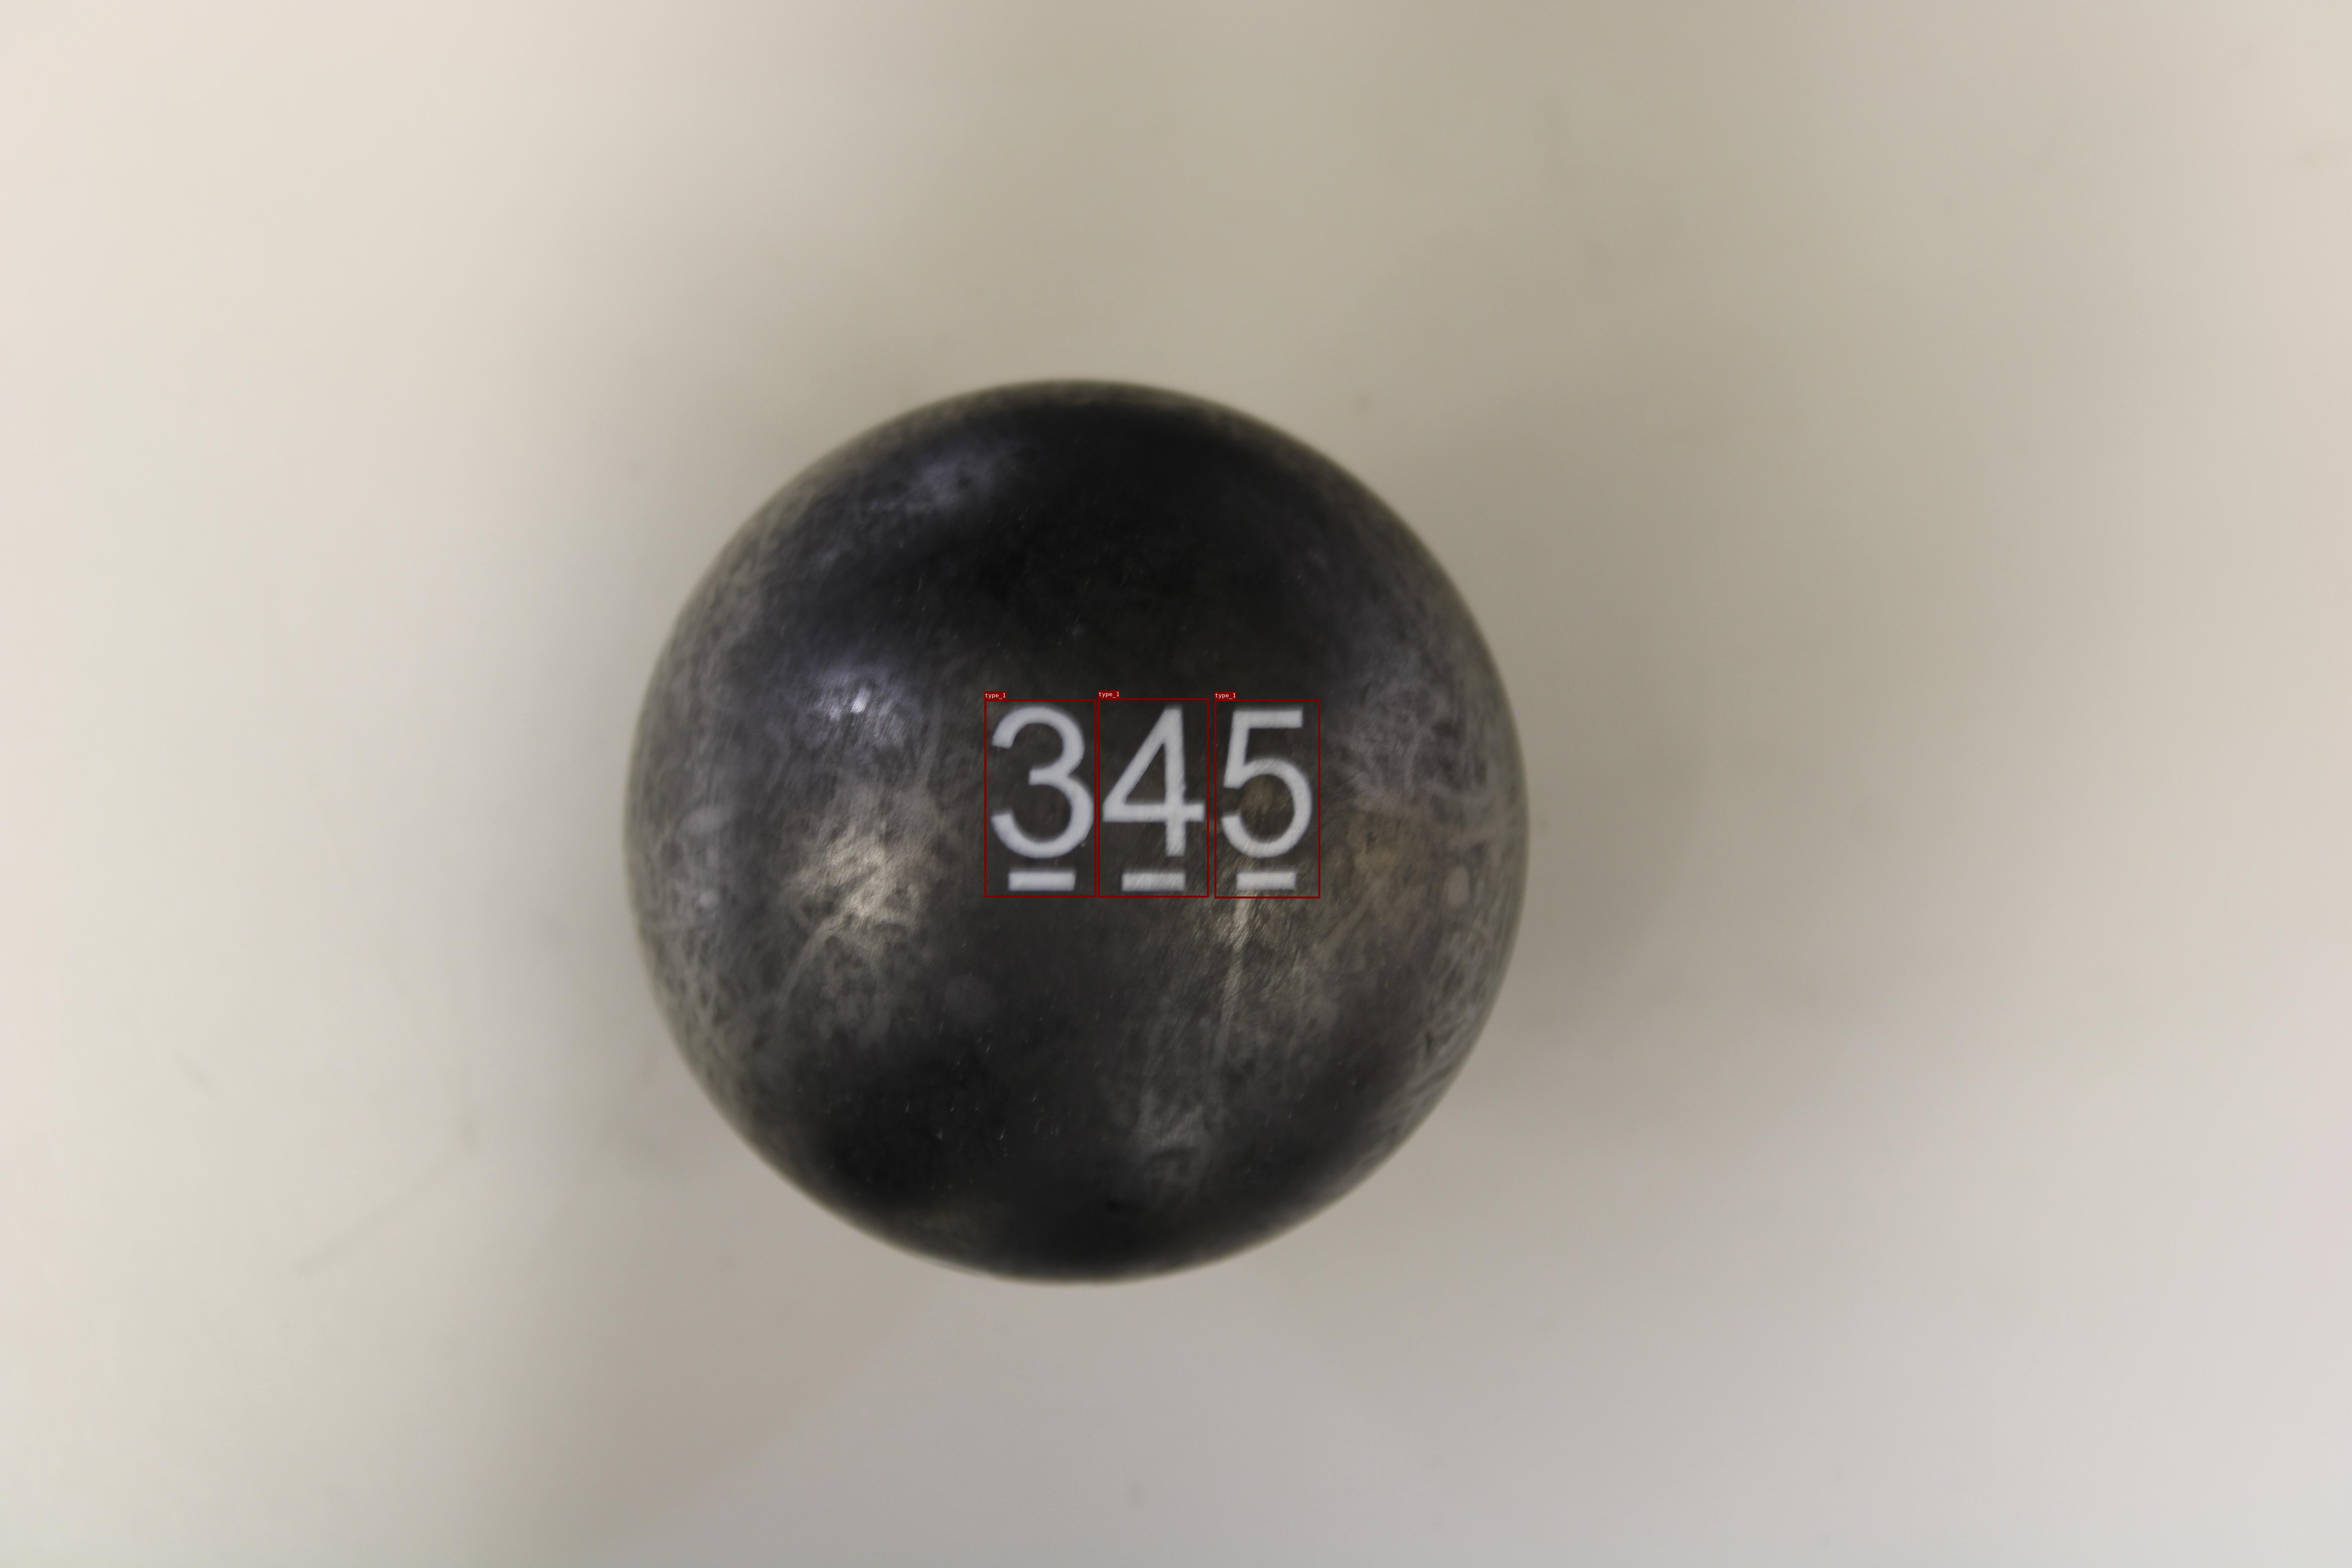type_1: (1097, 698, 1209, 898), (984, 700, 1096, 898), (1214, 700, 1319, 898)
